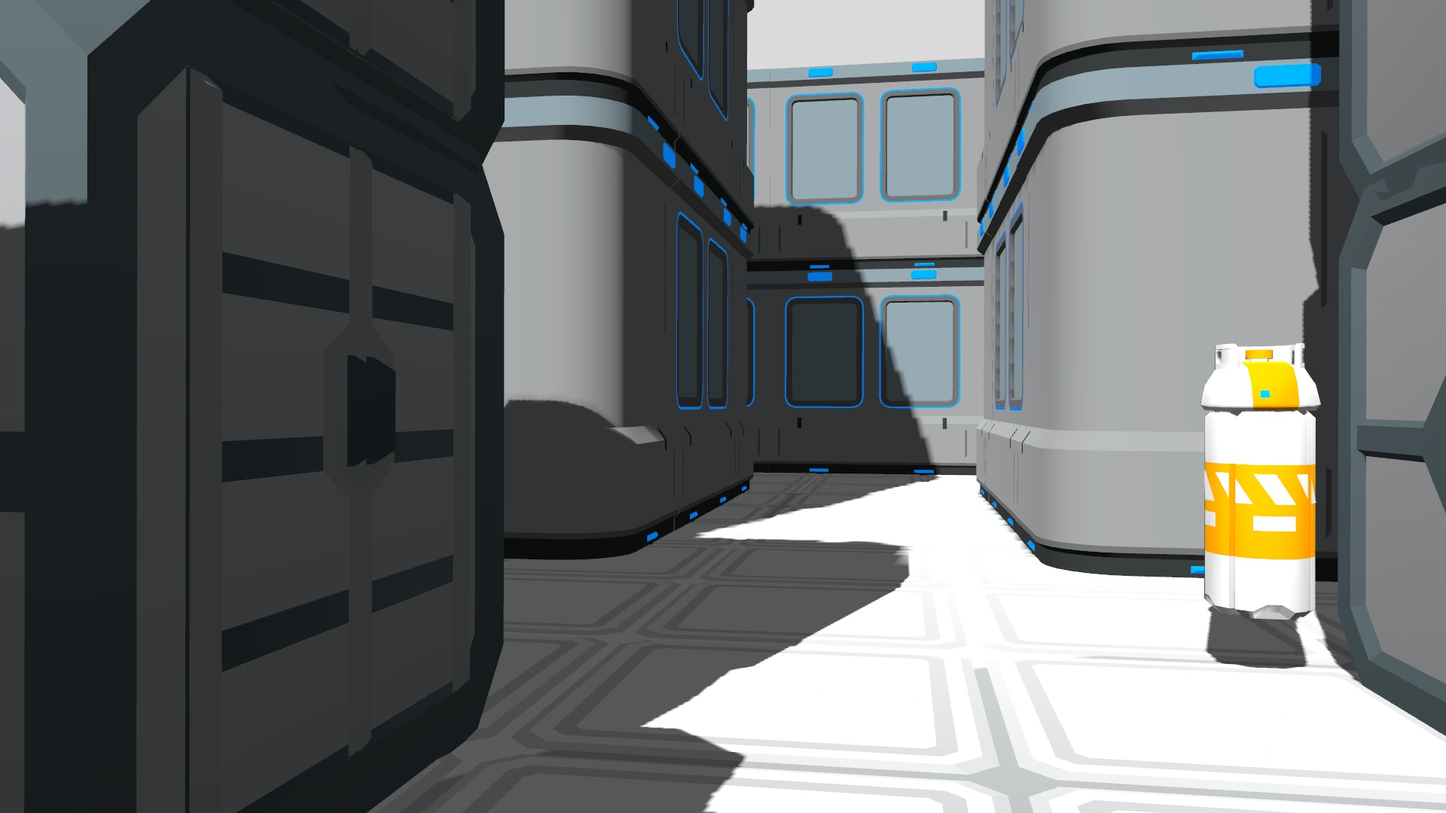yellow_barrel: (1198, 337, 1327, 632)
